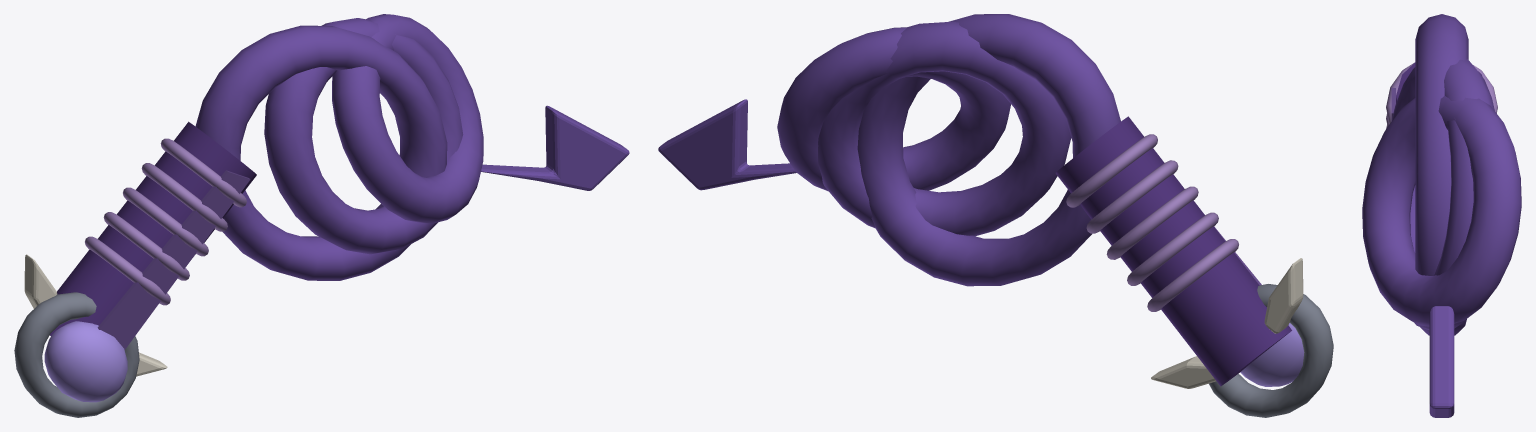
The model's file is batwhip.glb.
The picture shows the model from 3 angles, left to right: view 1: azimuth 30°, elevation 25°; view 2: azimuth 150°, elevation 25°; view 3: azimuth 270°, elevation 25°; orthographic projection. The views are drawn at different scales.
Visible parts, largest first — view 1: _profile.001, _cyl, _sphere, _profile.002; view 2: _profile.001, _cyl, _sphere, _profile.002; view 3: _profile.001, _cyl.
Part boxes in pixels (box(x1,y1,x2,y2)): _profile.001: box(195, 14, 629, 280); _cyl: box(50, 121, 256, 349); _sphere: box(14, 292, 139, 417); _profile.002: box(24, 254, 167, 376); _profile.001: box(658, 14, 1120, 286); _cyl: box(1055, 116, 1291, 386); _sphere: box(1209, 284, 1333, 417); _profile.002: box(1151, 258, 1303, 388); _profile.001: box(1362, 14, 1521, 417); _cyl: box(1386, 62, 1497, 128).
Size of the model in its own units: 0.8747 by 0.4402 by 0.1862.
